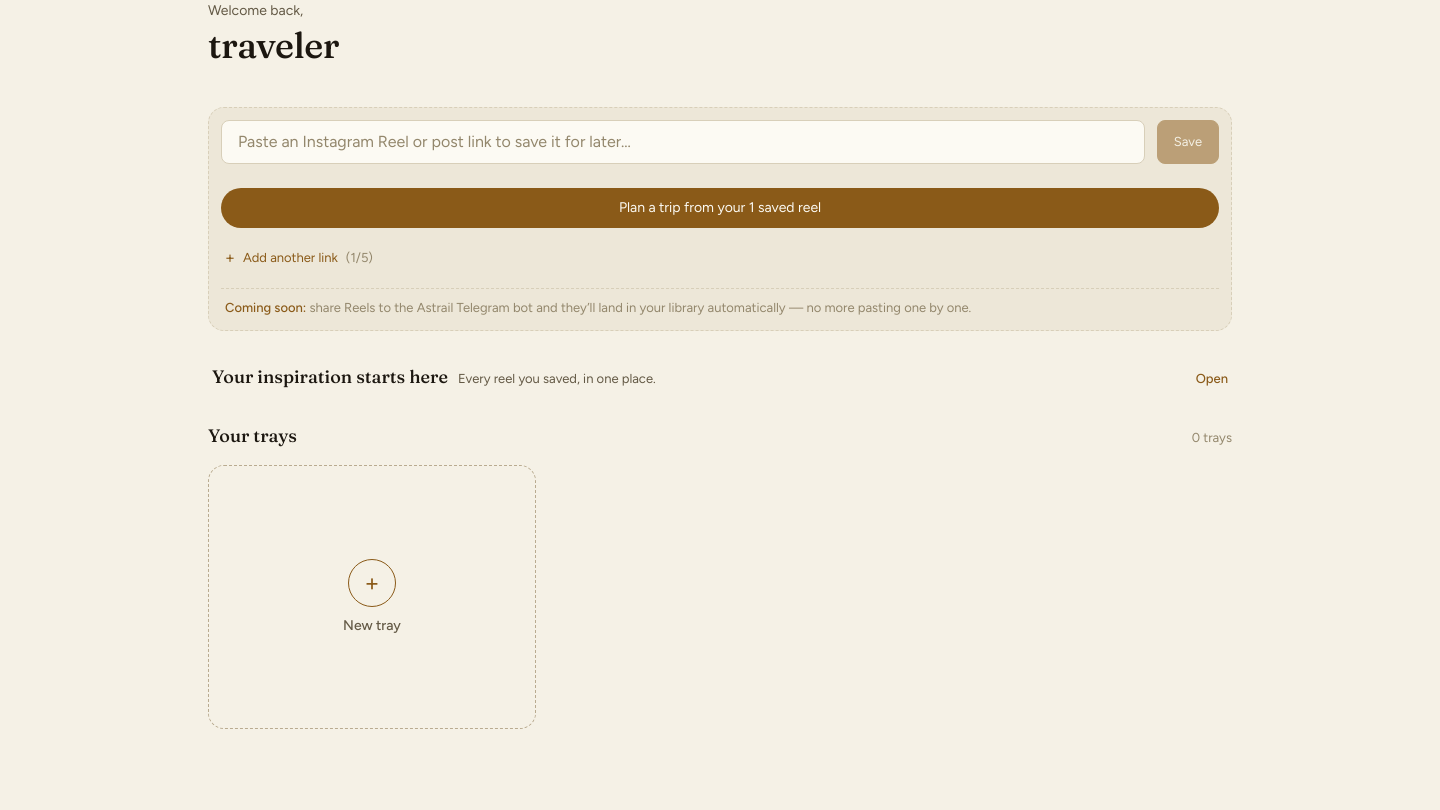
it: TraysScreen › wires CreateTrayDialog to the live collections and creates a tray through the data layer
This screenshot has width=1440, height=810.
Click the button with aria-label "create a tray": {"x": 372, "y": 597} [208,465,536,729]
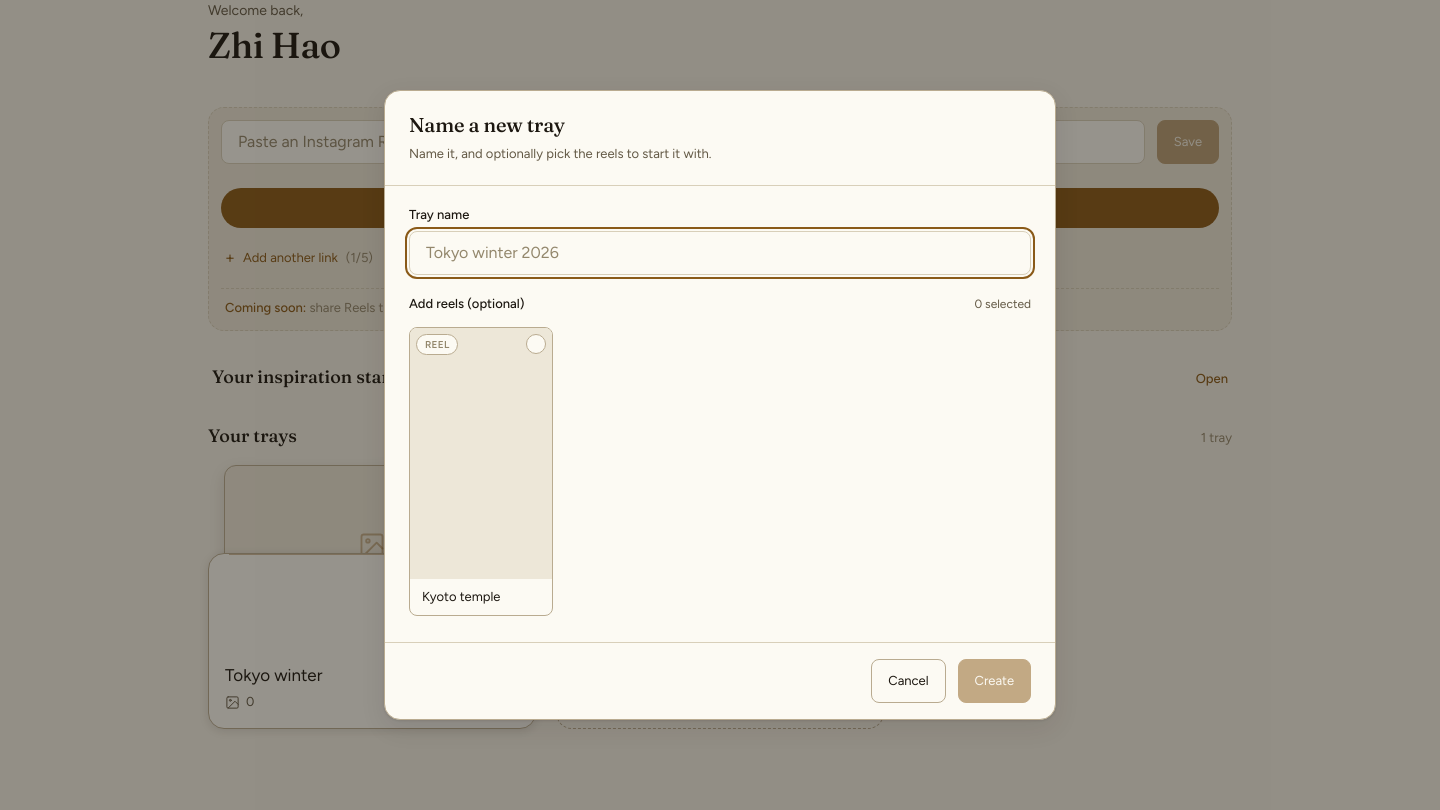
Note: existingNames is wired from the live collections: the loaded 'Tokyo winter' reads as a dup.
In the field labelled "Tray name": {"x": 720, "y": 253} [409,231,1031,275], type "tokyo winter"
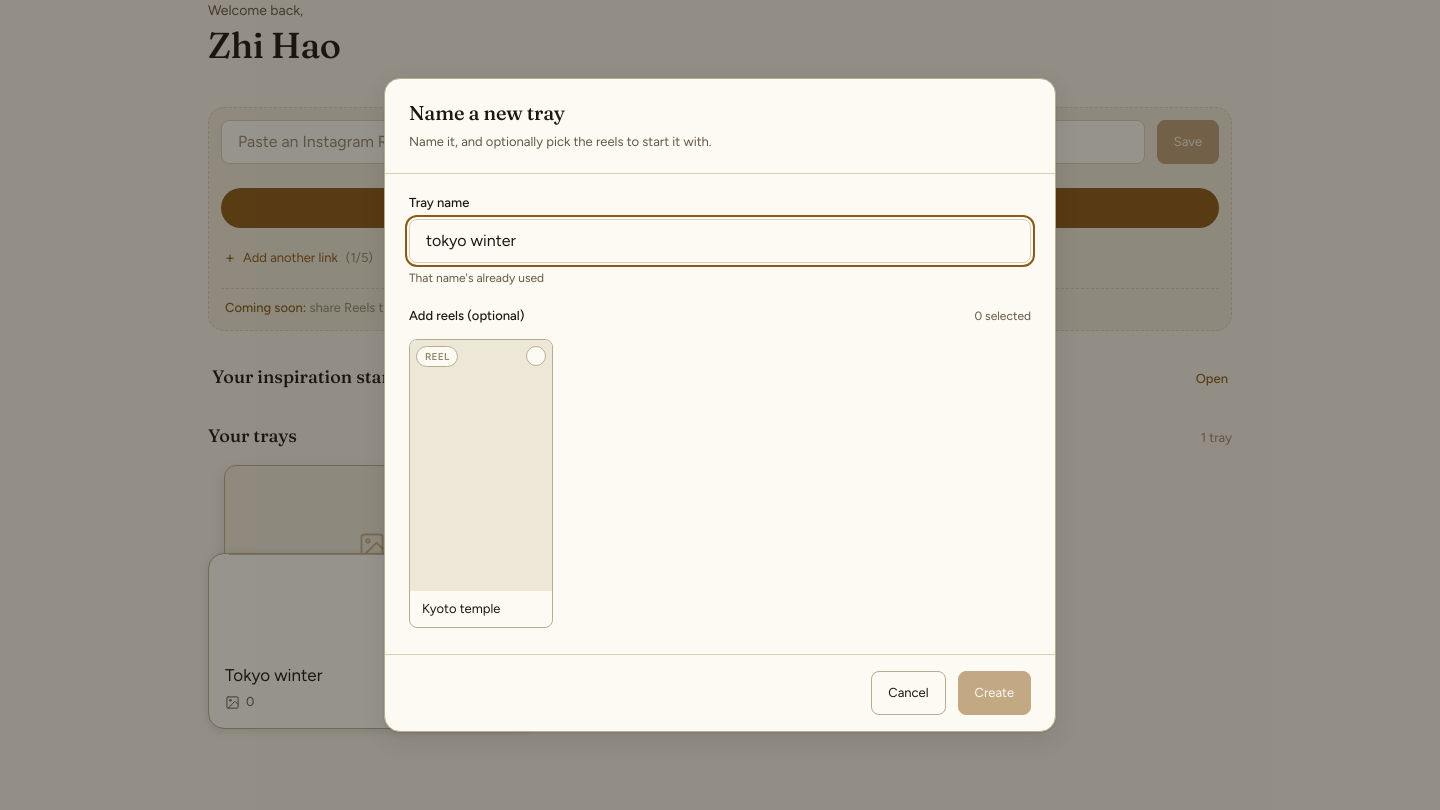
Expected: the text "That name's already used" is shown, [409,271,544,285]
Note: Pick a reel + a fresh name + Create → the data layer runs with the created id and picked ids.
Click the button with aria-label "Select Kyoto temple": {"x": 481, "y": 483} [409,339,552,628]
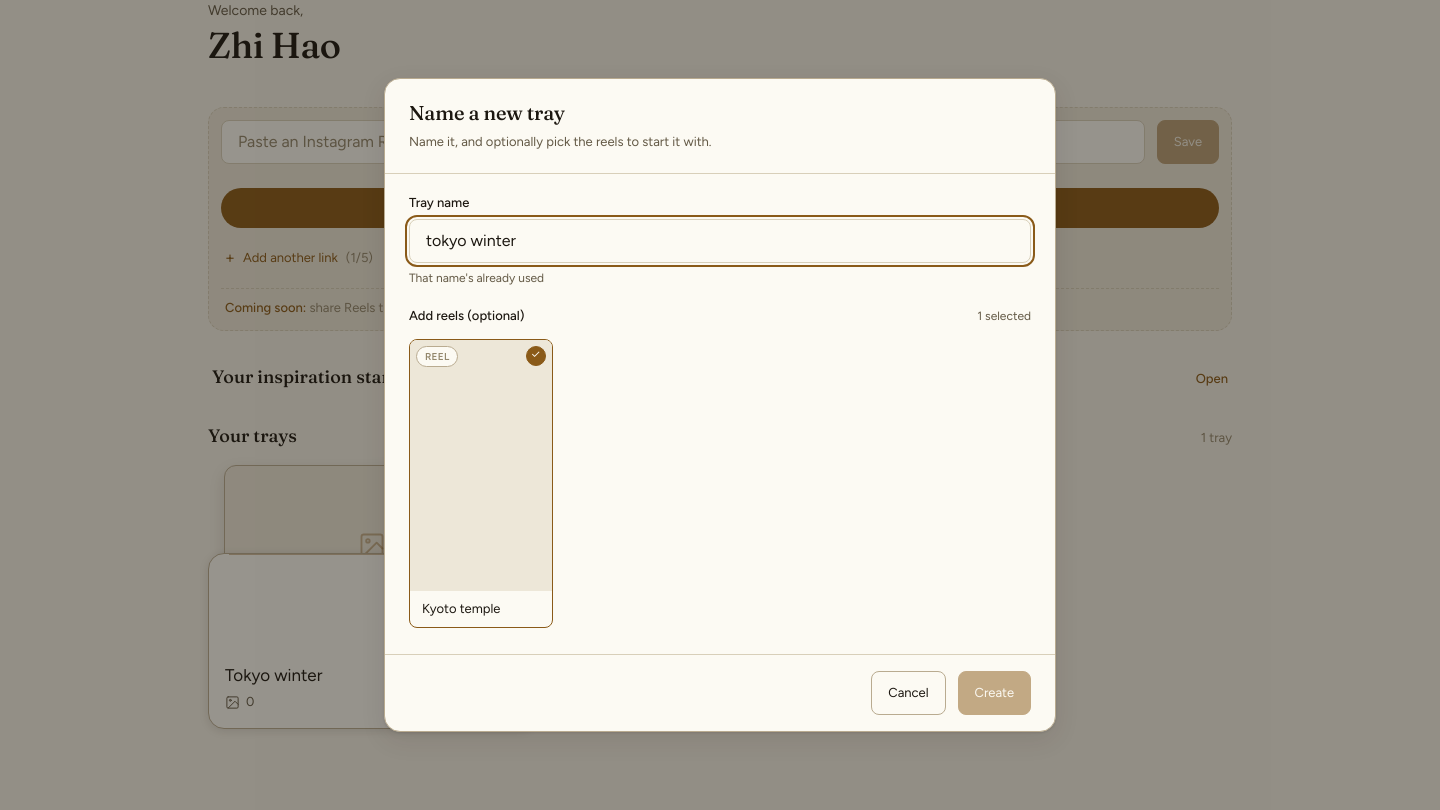
Replace the text in the field labelled "Tray name" with "Kyoto autumn": {"x": 720, "y": 241} [409,219,1031,263]
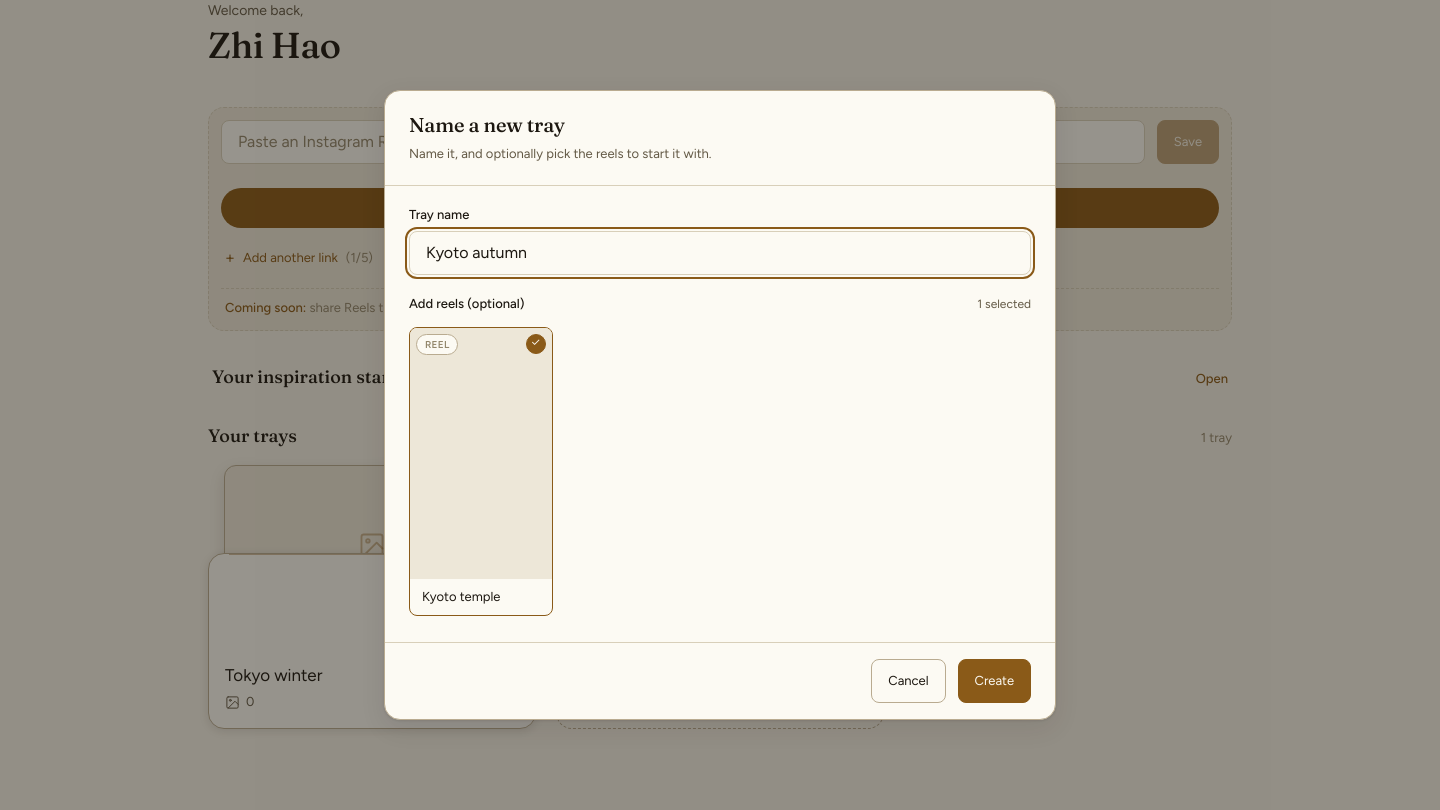
Click the button "Create": {"x": 994, "y": 681} [958,659,1031,703]
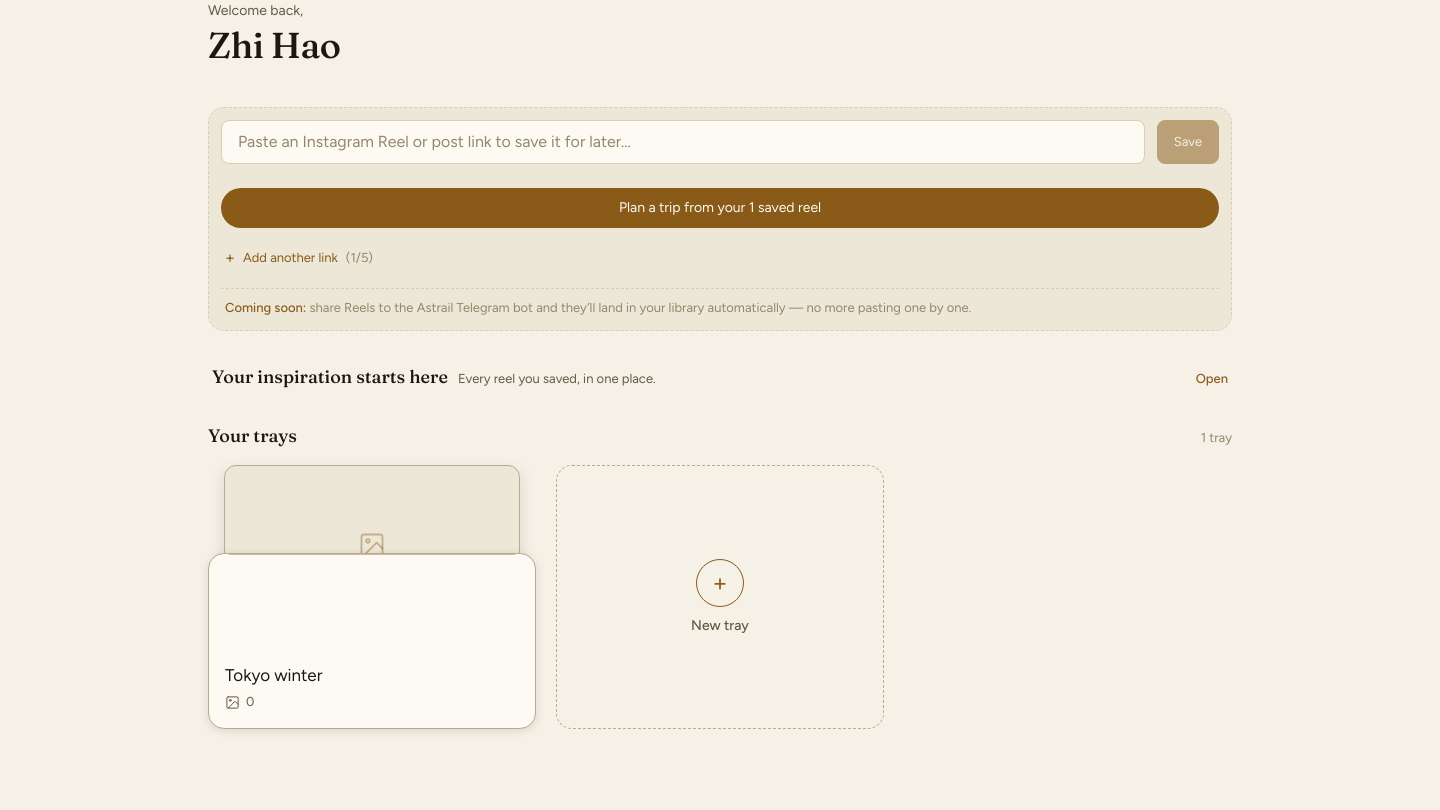
Expected: the dialog is gone
